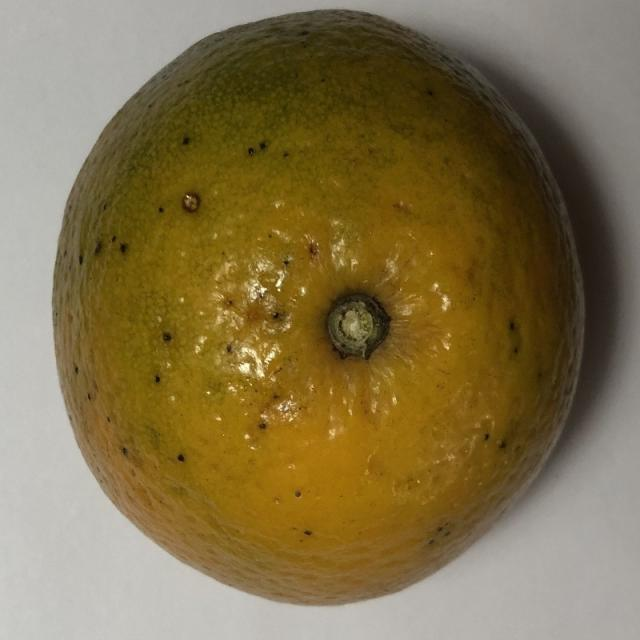blackspot: (38, 0, 624, 625)
